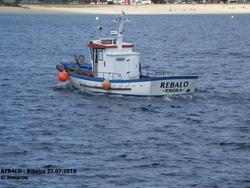otherboat: (56, 1, 199, 97)
